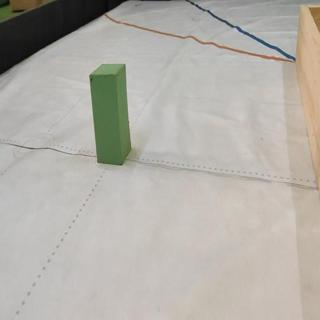greenbox: (91, 64, 130, 165)
